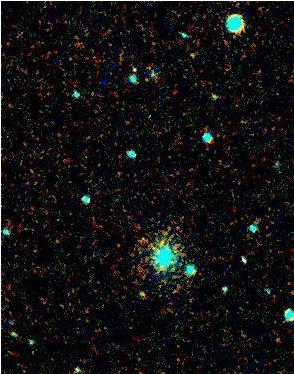star: (120, 55, 150, 85)
